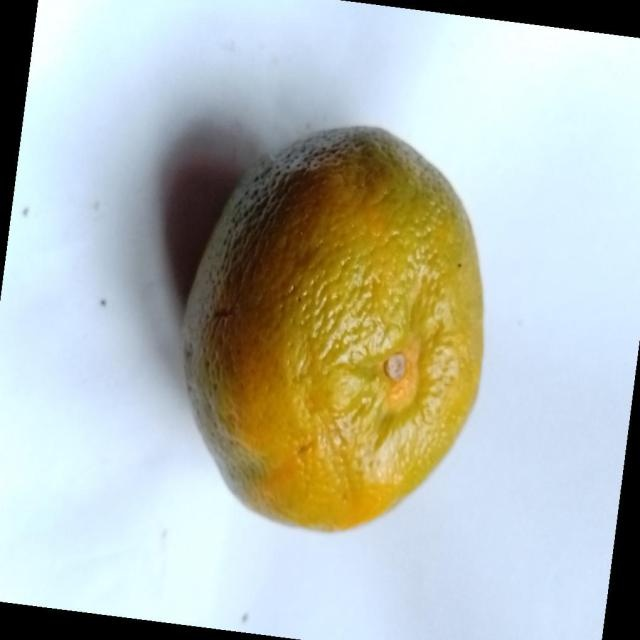agrume: (179, 123, 485, 533)
